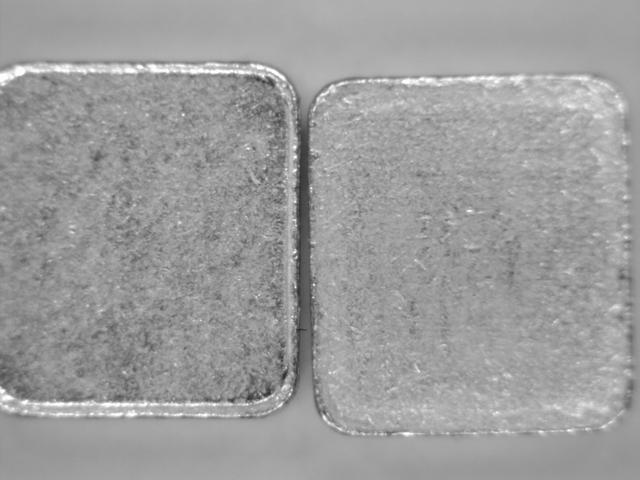nok: (4, 57, 301, 427)
ok: (305, 63, 636, 437)
